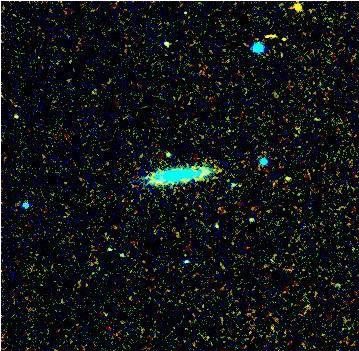star: (281, 0, 311, 22)
